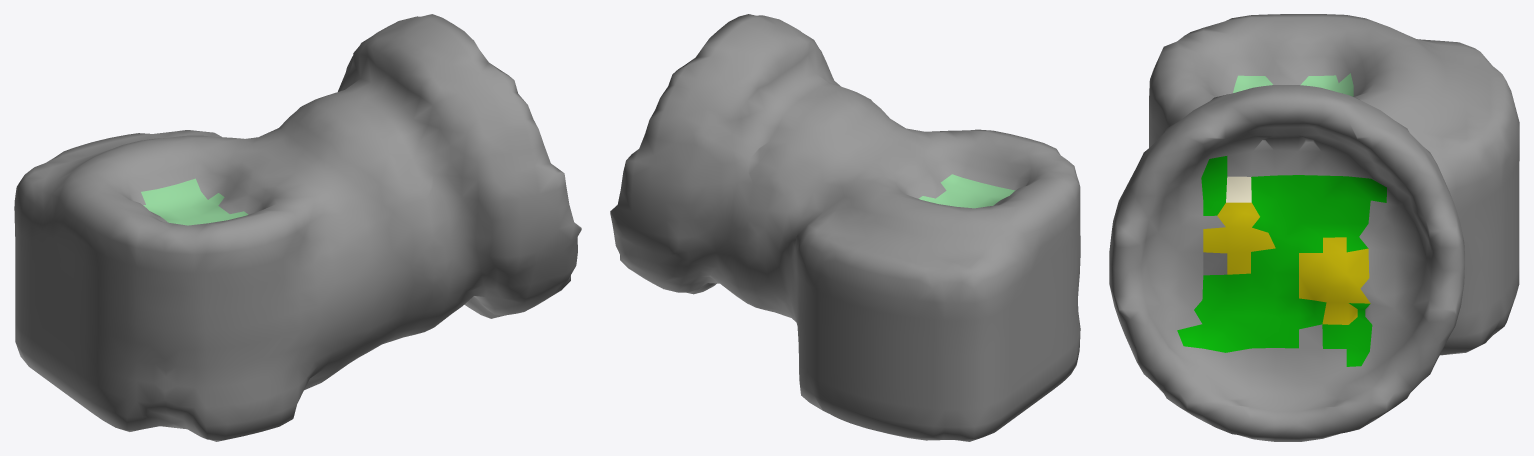
Rendered from link1_remeshed.dae.
3 renders of one model, left to right at view 1: azimuth 30°, elevation 25°; view 2: azimuth 150°, elevation 25°; view 3: azimuth 270°, elevation 25°, orthographic. The views are drawn at different scales.
Parts seen in each view (by area): view 1: node0; view 2: node0; view 3: node0.
Part boxes in pixels (x1,y1,x2,y2): node0: (14,14,581,441); node0: (610,14,1080,441); node0: (1109,14,1519,441).
Bounding box in the file's own units: 0.0722 × 0.0515 × 0.0491.
